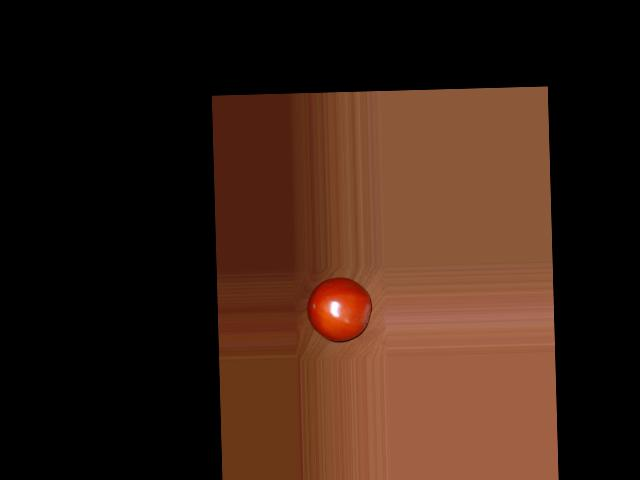tomato: (306, 275, 372, 342)
